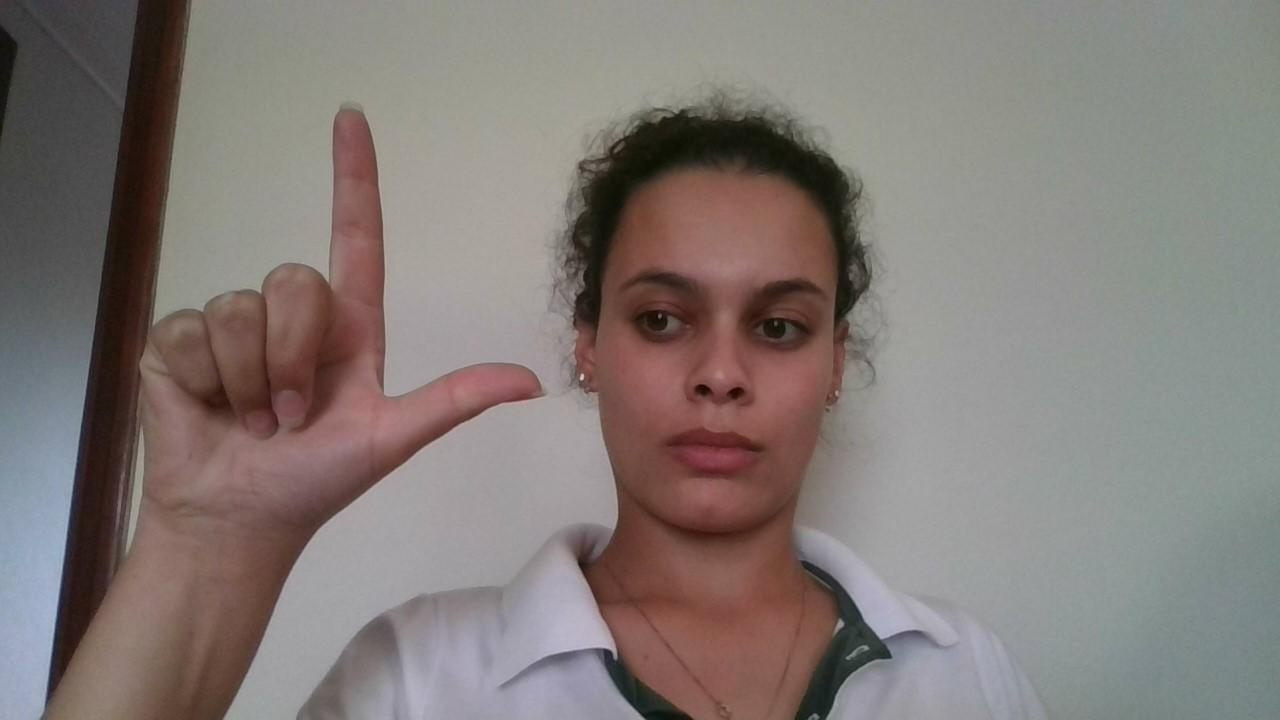L: (132, 102, 554, 530)
